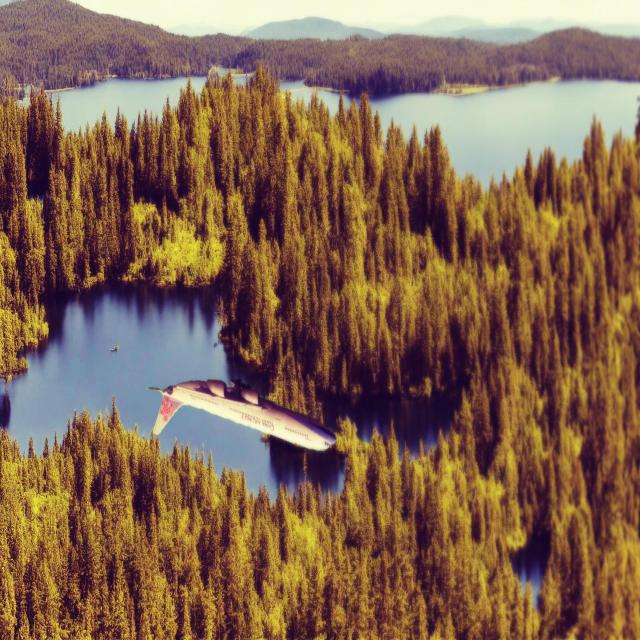airplane: (146, 376, 337, 454)
